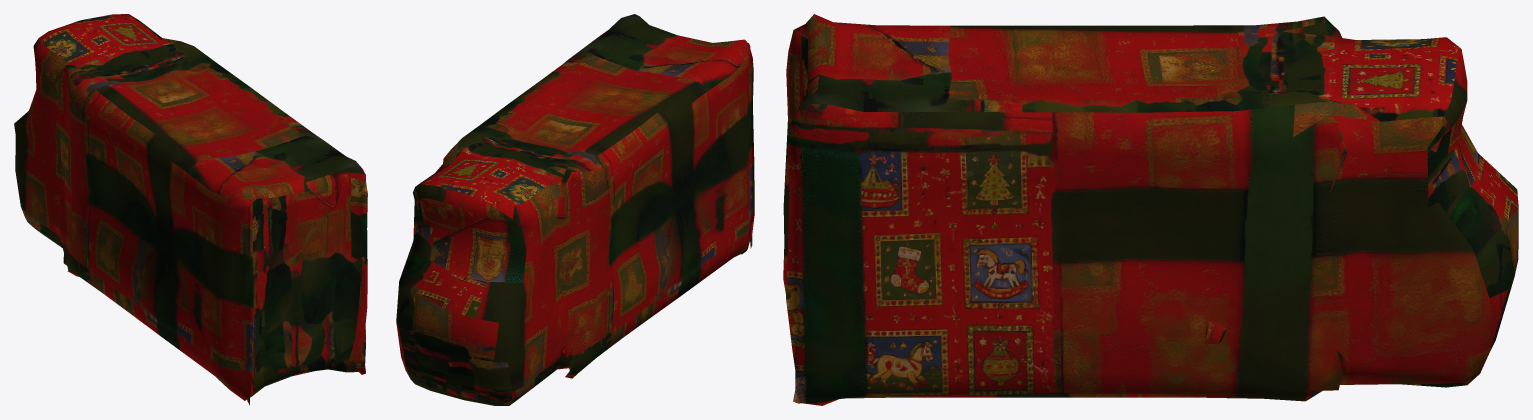
File: Chocomido.fbx
The picture shows the model from 3 angles, left to right: view 1: azimuth 30°, elevation 25°; view 2: azimuth 150°, elevation 25°; view 3: azimuth 270°, elevation 25°; orthographic projection. The views are drawn at different scales.
Visible parts, largest first — view 1: tripo_node_db0c8135; view 2: tripo_node_db0c8135; view 3: tripo_node_db0c8135.
Boxes of the visible parts, x1,y1,x2,y2 form: tripo_node_db0c8135: (14, 14, 367, 405); tripo_node_db0c8135: (396, 14, 754, 405); tripo_node_db0c8135: (783, 14, 1518, 405).
Bounding box in the file's own units: 0.3298 × 0.4604 × 0.9835.
